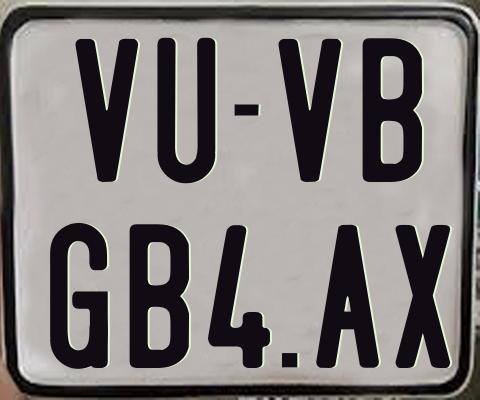4: (207, 225, 274, 373)
A: (316, 225, 385, 372)
B: (126, 223, 192, 371), (361, 38, 427, 182)
G: (48, 223, 108, 373)
U: (154, 35, 215, 183)
V: (278, 36, 343, 184), (75, 36, 139, 184)
X: (393, 224, 449, 369)
